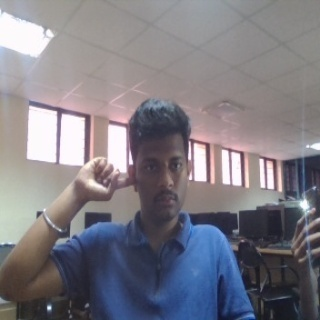Deaf: (71, 155, 135, 205)
Face: (126, 97, 195, 228)
